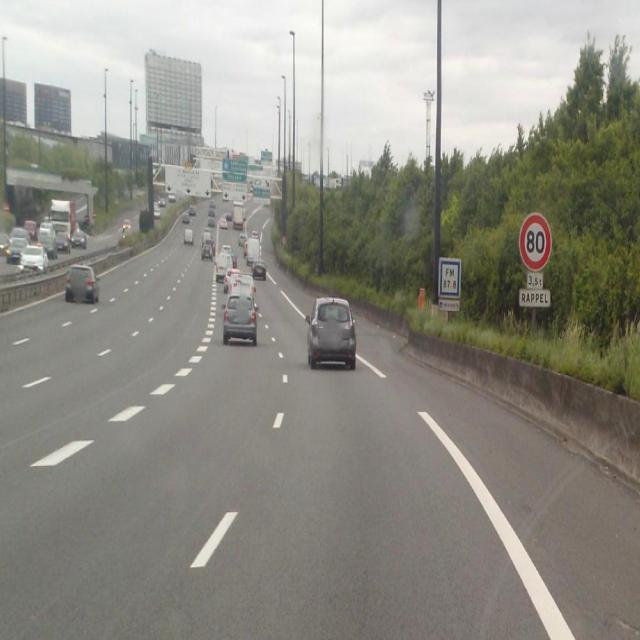speed_80: (521, 214, 551, 270)
